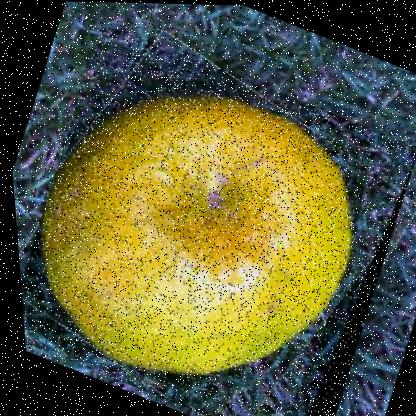orange: (1, 19, 415, 415)
